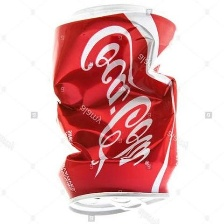can: (47, 2, 187, 222)
